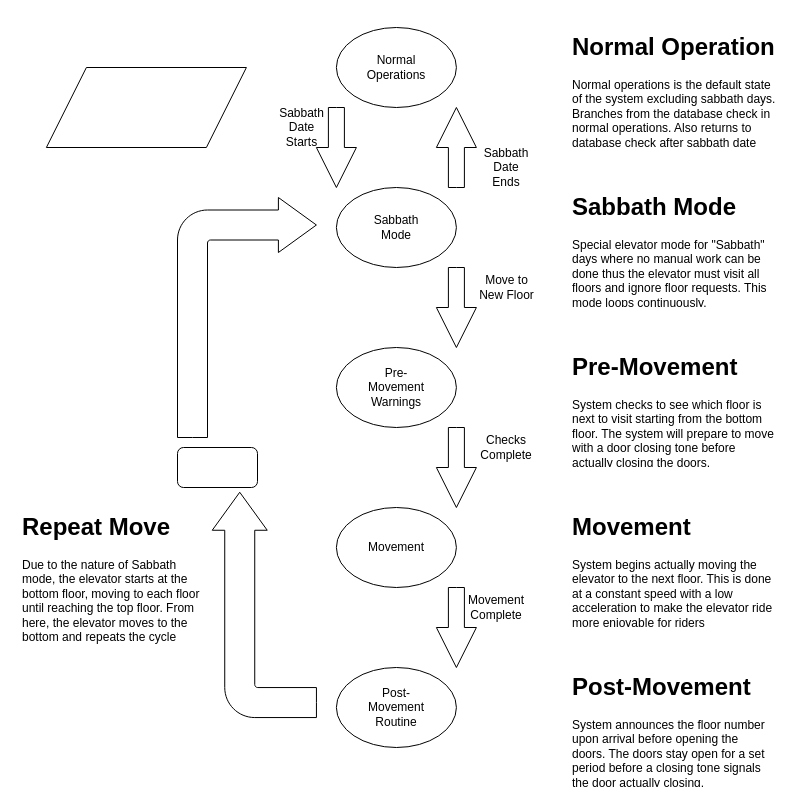
Image size: 804x806. Some labels were removed from this diagram. The centre of each missing label's shape, as x and y in pixels:
Repeat for Every Floor: [217,467]
Sabbath Operation: [145,107]
